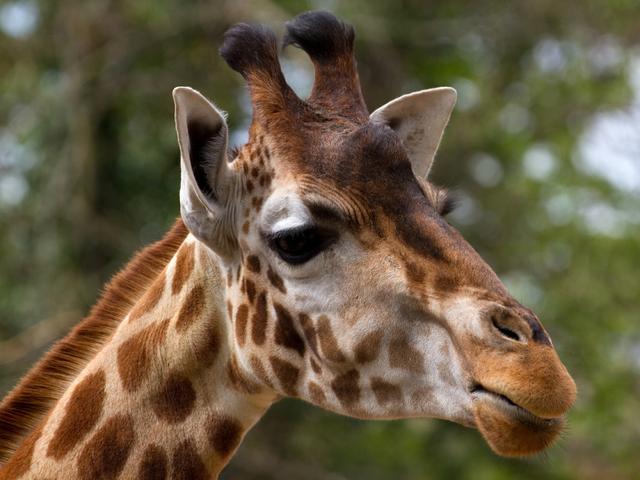giraffe: (18, 15, 622, 473)
